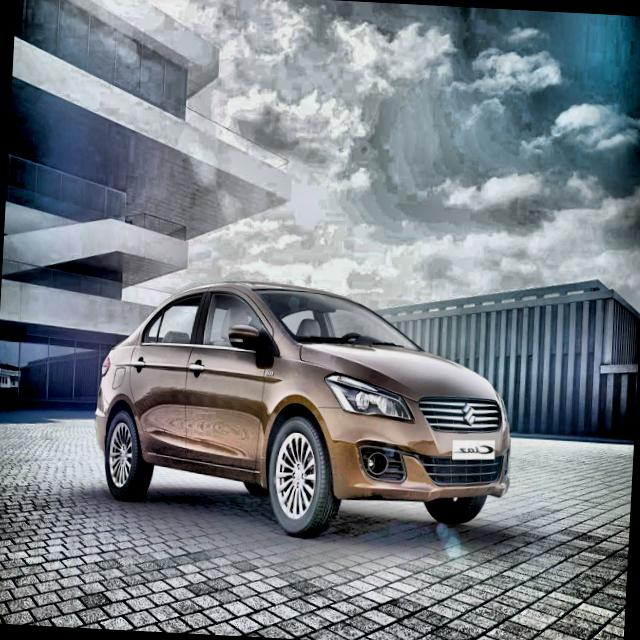Car: (90, 276, 518, 546)
